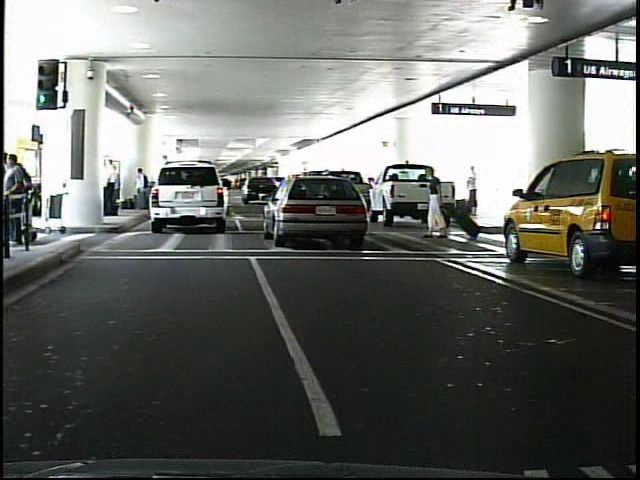person: (426, 164, 449, 242), (106, 157, 122, 218), (140, 166, 154, 215), (474, 164, 486, 208)
